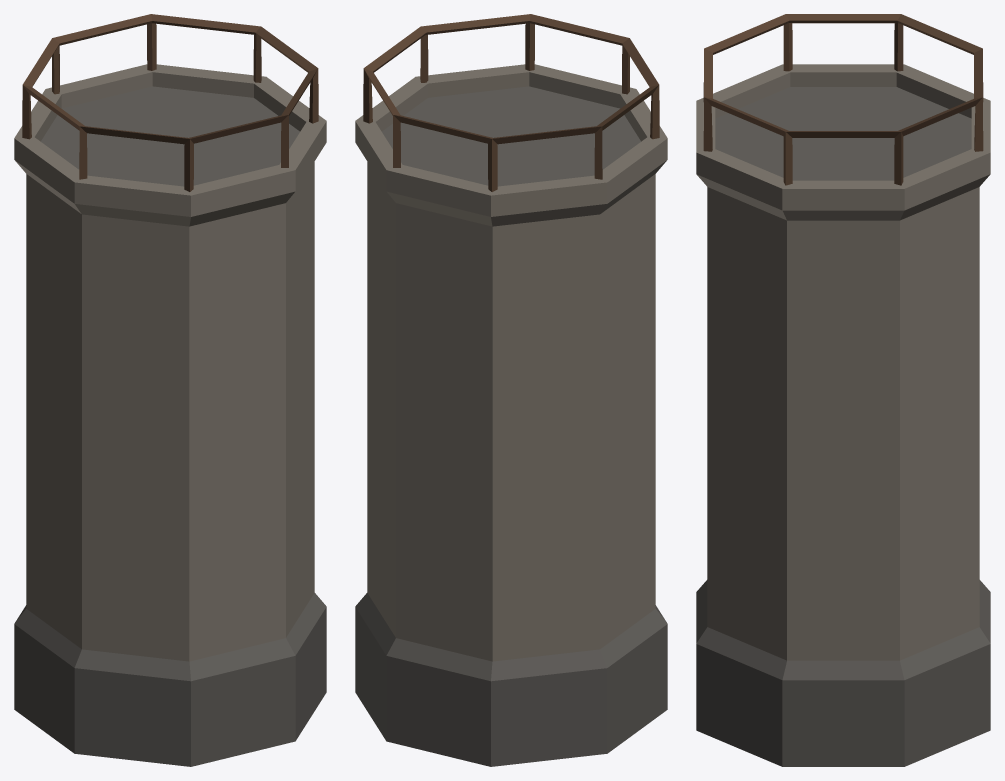
File: SM_Props_Industrial_Tank_06.fbx
3 views of the same model, side by side, from view 1: azimuth 30°, elevation 25°; view 2: azimuth 150°, elevation 25°; view 3: azimuth 270°, elevation 25° (orthographic).
Parts seen in each view (by area): view 1: SM_Props_Industrial_Tank_06; view 2: SM_Props_Industrial_Tank_06; view 3: SM_Props_Industrial_Tank_06.
Part boxes in pixels (x1,y1,x2,y2): SM_Props_Industrial_Tank_06: [14, 14, 326, 766]; SM_Props_Industrial_Tank_06: [355, 14, 667, 766]; SM_Props_Industrial_Tank_06: [696, 14, 990, 766].
Bounding box in the file's own units: 185 × 437 × 185.
